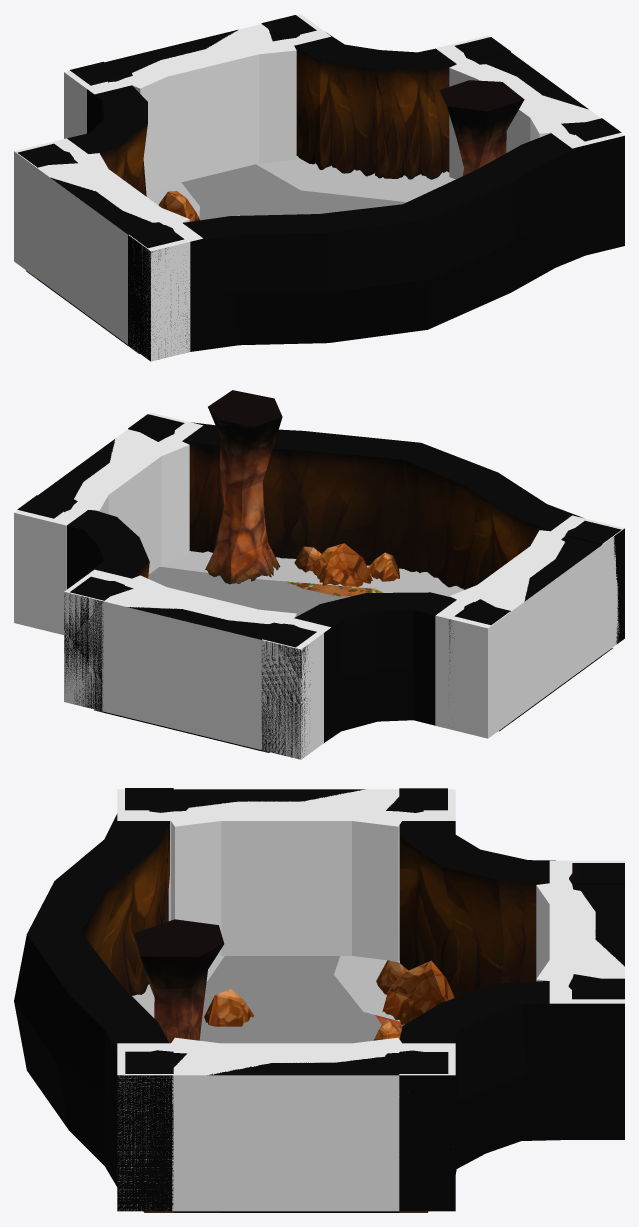
File: Dungeon_062_RoadT_002.fbx
3 renders of one model, top to bottom at view 1: azimuth 30°, elevation 25°; view 2: azimuth 150°, elevation 25°; view 3: azimuth 270°, elevation 25°, orthographic. The views are drawn at different scales.
Visible parts, largest first — view 1: Dun_062_Road_002_wall, DoorWay_NavMask (3) (×3), Dun_062_Door_002 (×3), DoorWay_NavMask (1) (×2), DoorWay_NavMask (2) (×3), Dun_062_RoadT_002_Nav, DoorWay_NavMask (4) (×3), Dungeon_062_Object_04_Pillar, Dun_062_Road_002_shadow, Dun_062_Object_100; view 2: Dun_062_Road_002_wall, DoorWay_NavMask (3) (×3), DoorWay_NavMask (1) (×2), Dungeon_062_Object_04_Pillar, Dun_062_Door_002 (×3), DoorWay_NavMask (2) (×2), Dun_062_RoadT_002_Nav, Dun_062_Road_002_shadow, Dun_062_Object_100, DoorWay_NavMask (4) (×2), Dun_062_Road_002_ground; view 3: Dun_062_Road_002_wall, DoorWay_NavMask (3) (×3), DoorWay_NavMask (1), Dun_062_Door_002 (×3), Dun_062_RoadT_002_Nav, DoorWay_NavMask (2) (×3), DoorWay_NavMask (4) (×3), Dungeon_062_Object_04_Pillar, Dun_062_Object_100, Dun_062_Road_002_shadow, Dungeon_062_Object_02_Rock.
Part boxes in pixels (box(x1,y1,x2,y2)): Dun_062_Road_002_wall: box(67, 32, 624, 361); DoorWay_NavMask (3) (×3): box(14, 14, 624, 361); Dun_062_Door_002 (×3): box(17, 15, 621, 345); DoorWay_NavMask (1) (×2): box(36, 24, 284, 333); DoorWay_NavMask (2) (×3): box(72, 39, 555, 180); Dun_062_RoadT_002_Nav: box(181, 164, 406, 220); DoorWay_NavMask (4) (×3): box(120, 59, 510, 227); Dungeon_062_Object_04_Pillar: box(439, 80, 524, 175); Dun_062_Road_002_shadow: box(146, 156, 455, 217); Dun_062_Object_100: box(158, 191, 199, 221); Dun_062_Road_002_wall: box(64, 422, 624, 759); DoorWay_NavMask (3) (×3): box(14, 412, 624, 759); DoorWay_NavMask (1) (×2): box(102, 534, 602, 747); Dungeon_062_Object_04_Pillar: box(205, 390, 282, 584); Dun_062_Door_002 (×3): box(17, 414, 621, 751); DoorWay_NavMask (2) (×2): box(121, 436, 189, 602); Dun_062_RoadT_002_Nav: box(148, 566, 350, 616); Dun_062_Road_002_shadow: box(160, 551, 464, 596); Dun_062_Object_100: box(294, 543, 399, 586); DoorWay_NavMask (4) (×2): box(72, 483, 296, 624); Dun_062_Road_002_ground: box(94, 582, 612, 752); Dun_062_Road_002_wall: box(14, 814, 624, 1211); DoorWay_NavMask (3) (×3): box(117, 789, 624, 1211); DoorWay_NavMask (1): box(172, 1049, 400, 1211); Dun_062_Door_002 (×3): box(125, 788, 624, 1212); Dun_062_RoadT_002_Nav: box(199, 956, 381, 1043); DoorWay_NavMask (2) (×3): box(166, 802, 592, 1061); DoorWay_NavMask (4) (×3): box(165, 802, 584, 1061); Dungeon_062_Object_04_Pillar: box(134, 919, 224, 1043); Dun_062_Object_100: box(376, 960, 454, 1024); Dun_062_Road_002_shadow: box(132, 956, 399, 1021); Dungeon_062_Object_02_Rock: box(204, 989, 254, 1026).
Bounding box in the file's own units: 9 × 2.96 × 8.13.
